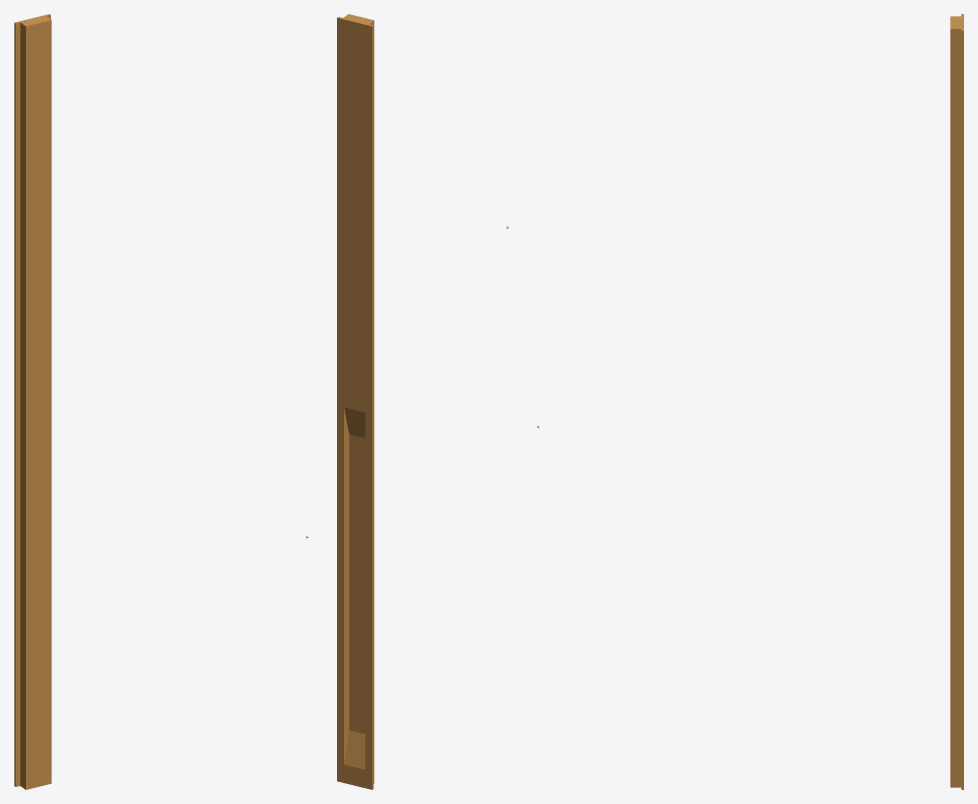
Rendered from 180 pvd gold.glb.
The picture shows the model from 3 angles, left to right: view 1: azimuth 30°, elevation 25°; view 2: azimuth 150°, elevation 25°; view 3: azimuth 270°, elevation 25°; orthographic projection.
Parts seen in each view (by area): view 1: CONCEAL HANDLE_180; view 2: CONCEAL HANDLE_180; view 3: CONCEAL HANDLE_180.
Boxes of the visible parts, x1,y1,x2,y2 form: CONCEAL HANDLE_180: [14, 14, 51, 789]; CONCEAL HANDLE_180: [337, 14, 374, 789]; CONCEAL HANDLE_180: [950, 14, 963, 789].
Size of the model in its own units: 2.16 by 19.73 by 10.05.
